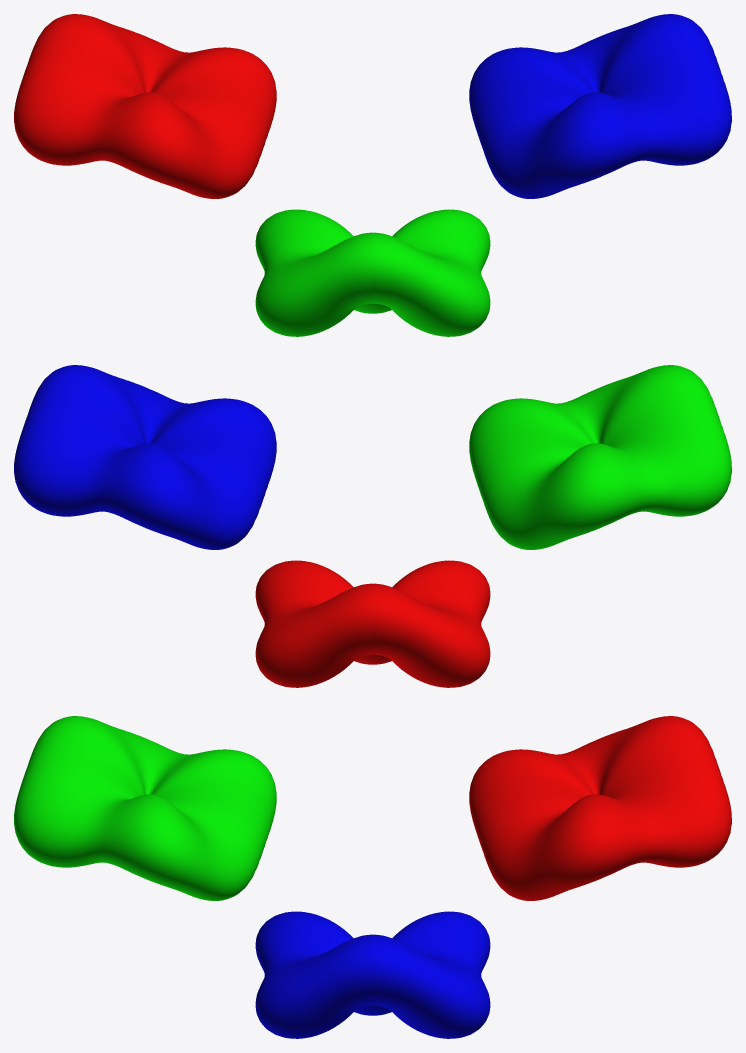
File: linda_kagome_animation_test.glb
3 views of the same model, one above another, from view 1: azimuth 30°, elevation 25°; view 2: azimuth 150°, elevation 25°; view 3: azimuth 270°, elevation 25° (orthographic).
Parts seen in each view (by area): view 1: Linda_kagome; view 2: Linda_kagome; view 3: Linda_kagome.
Boxes of the visible parts, <box> form: Linda_kagome: <box>14,14,731,336</box>; Linda_kagome: <box>14,365,731,687</box>; Linda_kagome: <box>14,716,731,1038</box>.
Bounding box in the file's own units: 7.58 × 1.8 × 8.41.
